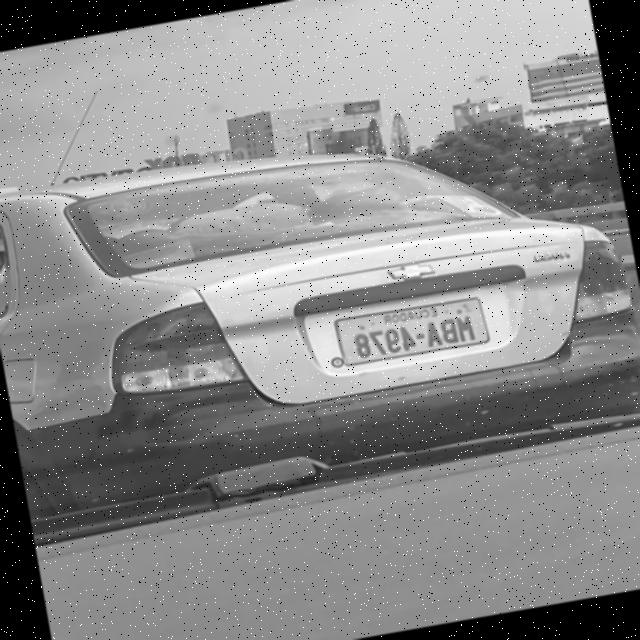Placa: (334, 298, 488, 365)
